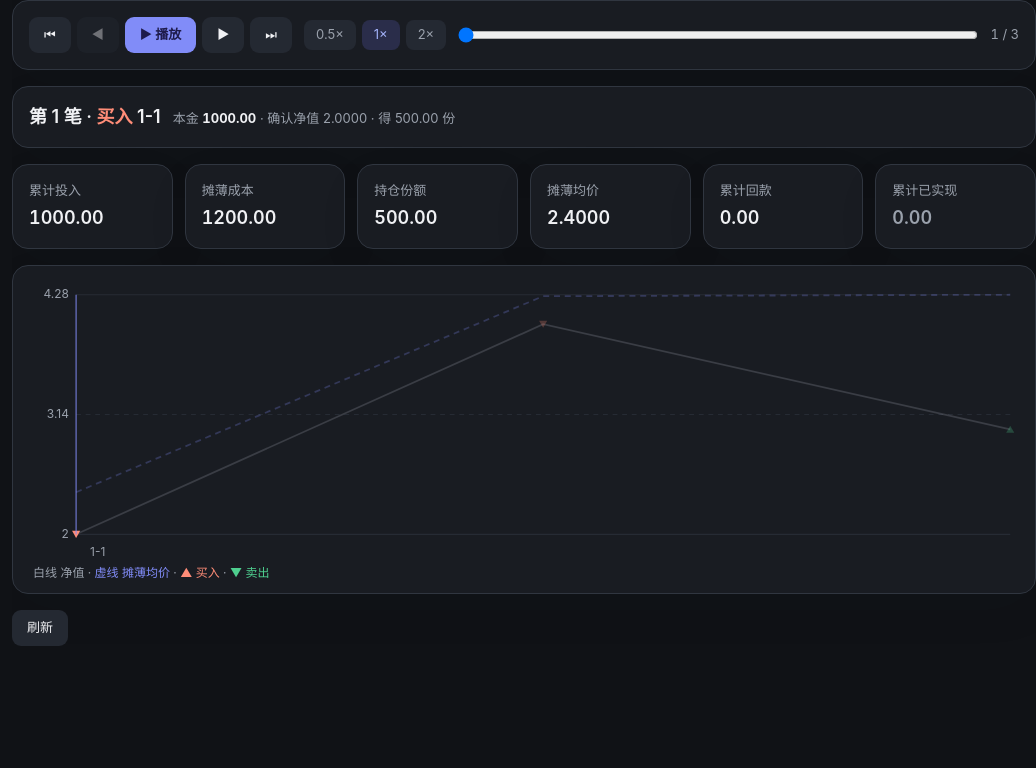
Timeline › 步进：下一笔更新状态卡
Check: the text "第 1 笔 · 买入 1-1" is shown, box top-left (29, 102), bottom-right (161, 130)
Step 1. Click the button named "下一笔" → (223, 35), box top-left (202, 17), bottom-right (244, 52)
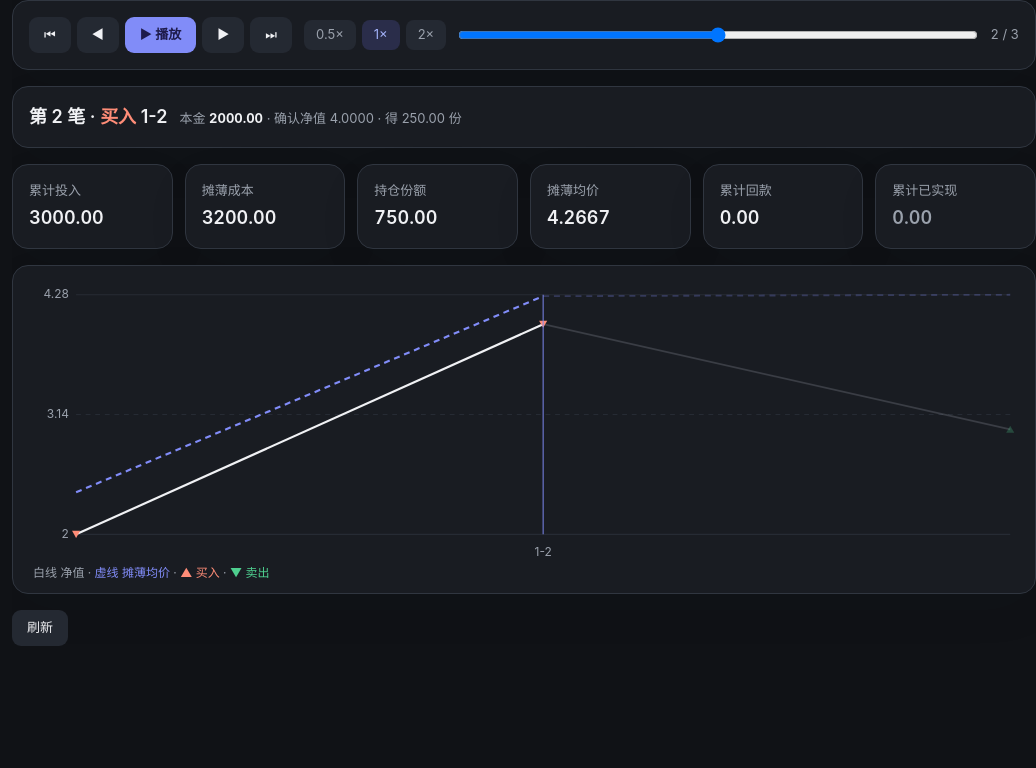
Check: the text "第 2 笔 · 买入 1-2" is shown, box top-left (29, 102), bottom-right (167, 130)
Check: the text "4.2667" is shown, box top-left (547, 207), bottom-right (610, 228)
Step 2. Click the button named "下一笔" → (223, 35), box top-left (202, 17), bottom-right (244, 52)
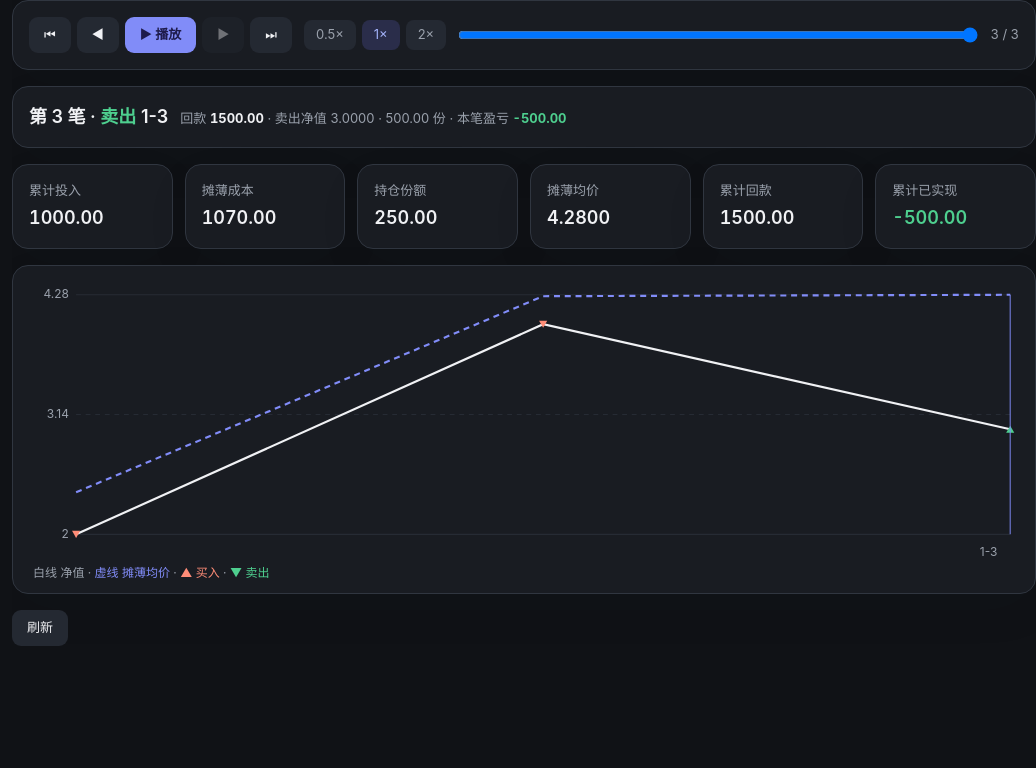
Check: the text "第 3 笔 · 卖出 1-3" is shown, box top-left (29, 102), bottom-right (168, 130)
Check: the text "卖出" is shown, box top-left (100, 106), bottom-right (136, 126)
Check: the text "-500.00" is shown 2 times, box top-left (512, 110), bottom-right (566, 126); top-left (892, 207), bottom-right (967, 228)
